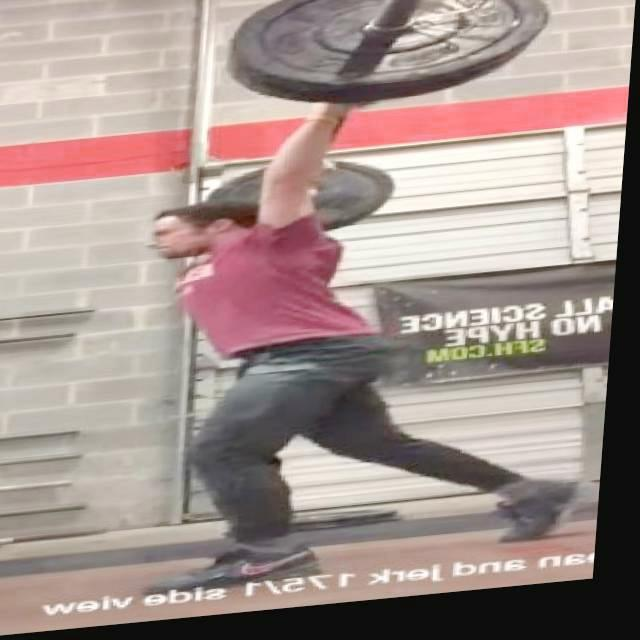barbell: (200, 1, 560, 126)
